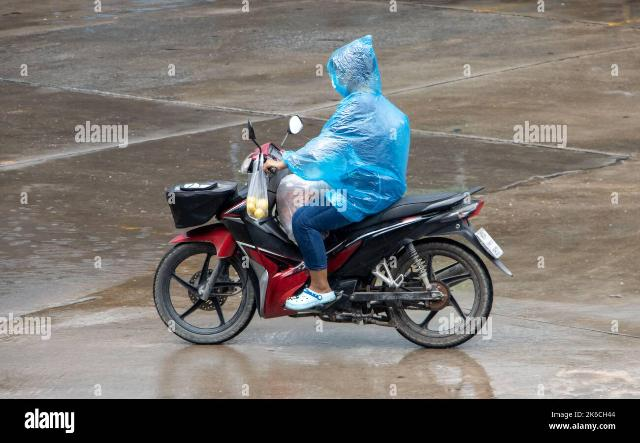motor: (155, 115, 516, 347)
non-helm: (328, 35, 382, 97)
